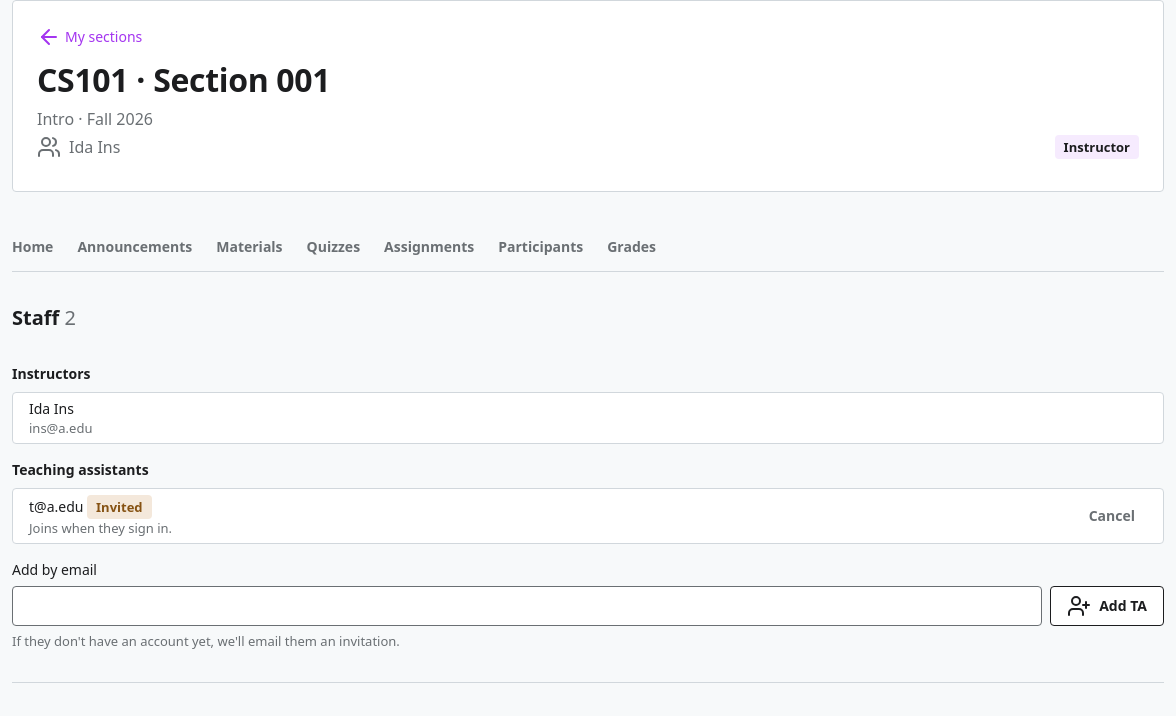
cancels a pending invitation and refetches
Click the button with aria-label "Cancel invitation for t@a.edu": (1112,516) top-left (1077, 500), bottom-right (1147, 532)
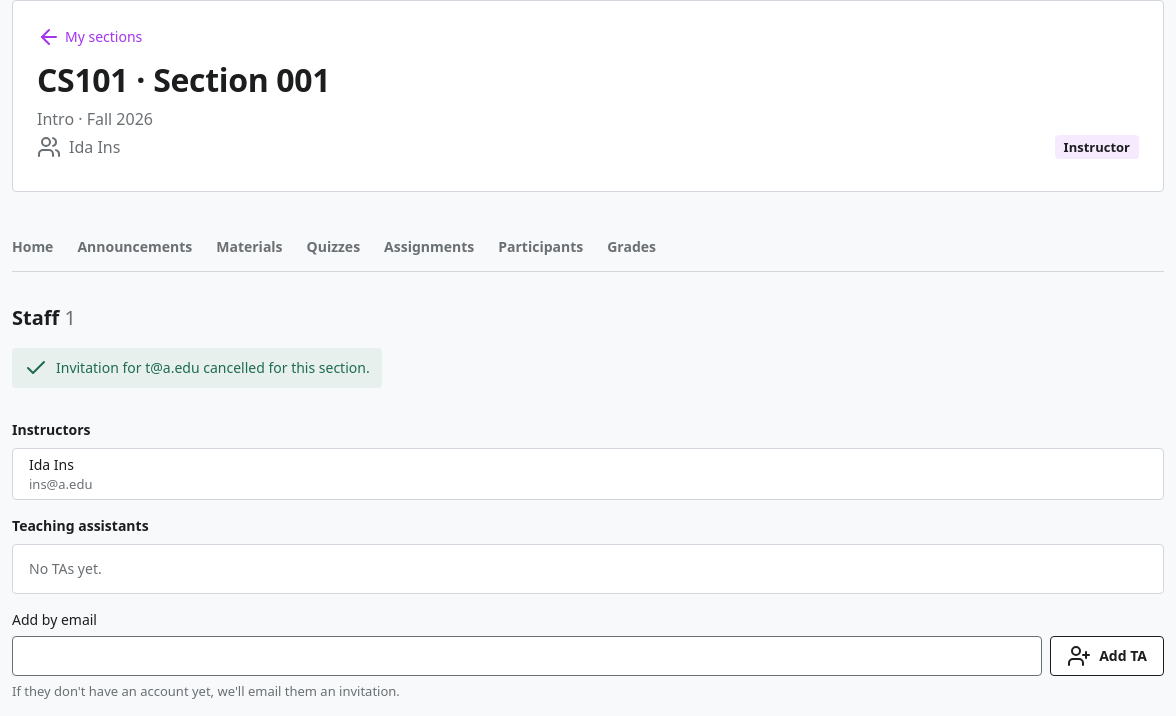
Expected: the text "Invitation for t@a.edu cancelled for this section." is shown, top-left (12, 348), bottom-right (382, 388)
